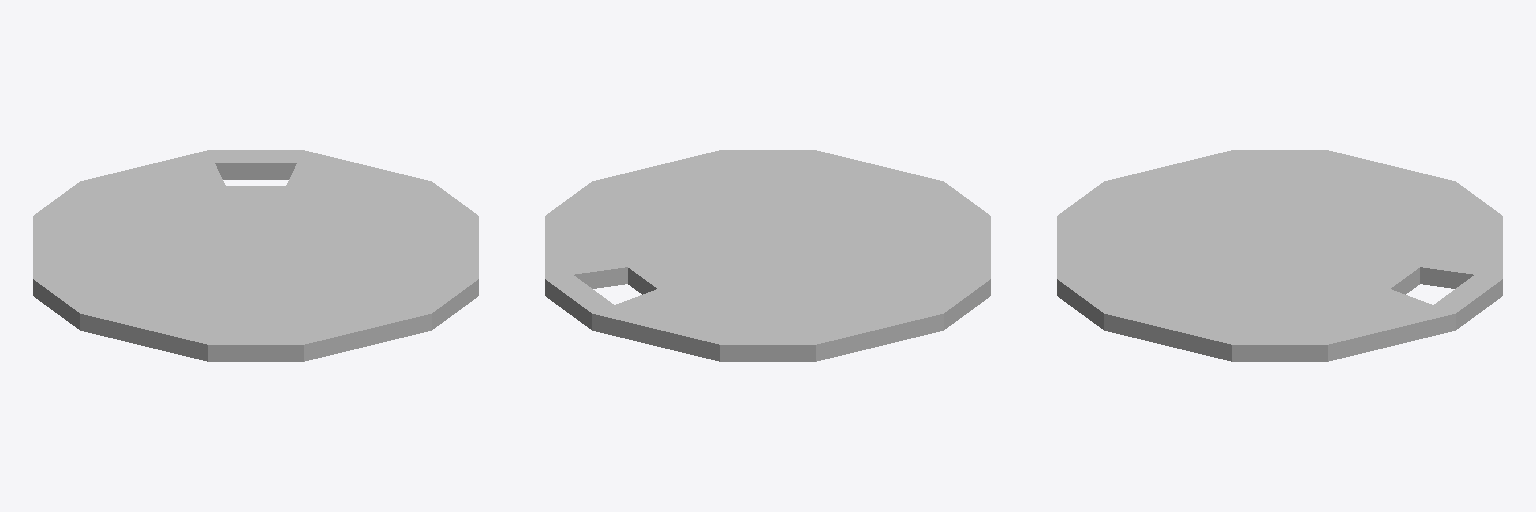
The model's file is chip_3.obj.
The picture shows the model from 3 angles: view 1: azimuth 30°, elevation 25°; view 2: azimuth 150°, elevation 25°; view 3: azimuth 270°, elevation 25°; orthographic projection.
Parts seen in each view (by area): view 1: chip.003; view 2: chip.003; view 3: chip.003.
Part boxes in pixels (x1,y1,x2,y2): chip.003: (33, 150, 478, 361); chip.003: (545, 150, 990, 361); chip.003: (1057, 150, 1502, 361).
Bounding box in the file's own units: 8.66 × 0.3528 × 8.39.